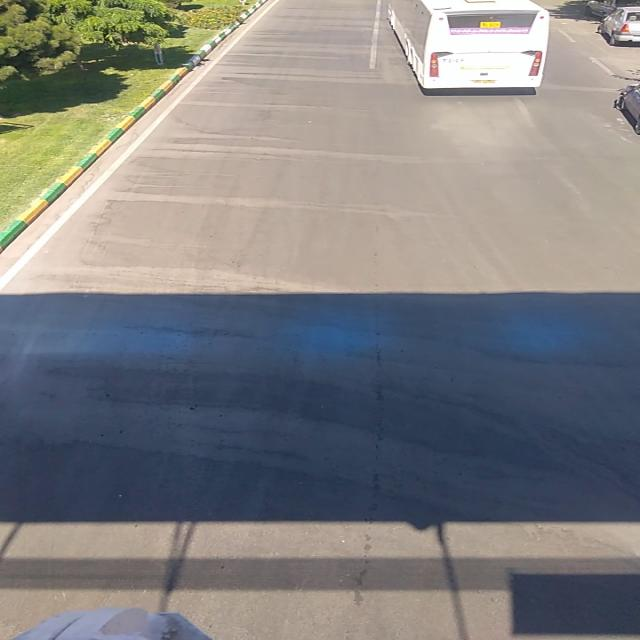bus: (388, 1, 548, 92)
car: (603, 6, 638, 46)
